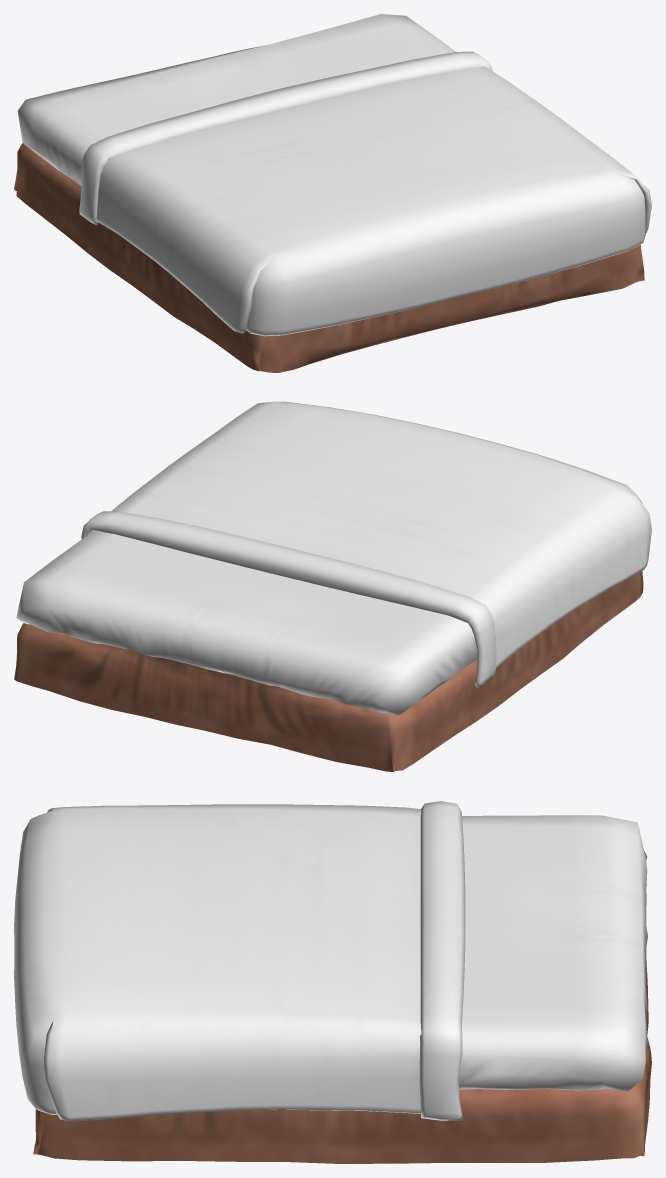
File: Bed.fbx
The picture shows the model from 3 angles, top to bottom: view 1: azimuth 30°, elevation 25°; view 2: azimuth 150°, elevation 25°; view 3: azimuth 270°, elevation 25°; orthographic projection. The views are drawn at different scales.
Visible parts, largest first — view 1: prop_Blanket, prop_Bed; view 2: prop_Blanket, prop_Bed; view 3: prop_Blanket, prop_Bed.
Part boxes in pixels (x1,y1,x2,y2): prop_Blanket: (79, 51, 651, 336); prop_Bed: (14, 14, 644, 372); prop_Blanket: (81, 401, 651, 687); prop_Bed: (14, 530, 643, 772); prop_Blanket: (14, 801, 465, 1121); prop_Bed: (33, 815, 651, 1163).
Size of the model in its own units: 192 by 54.01 by 211.
